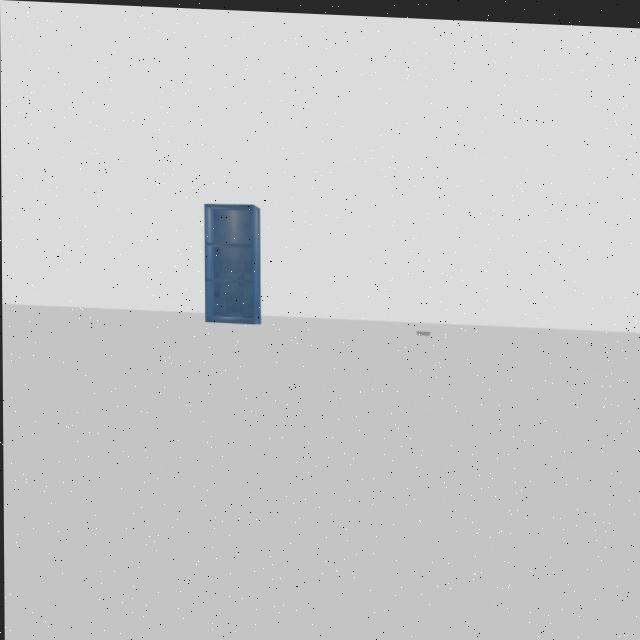bowl: (416, 322, 432, 334)
shelf: (193, 194, 271, 333)
